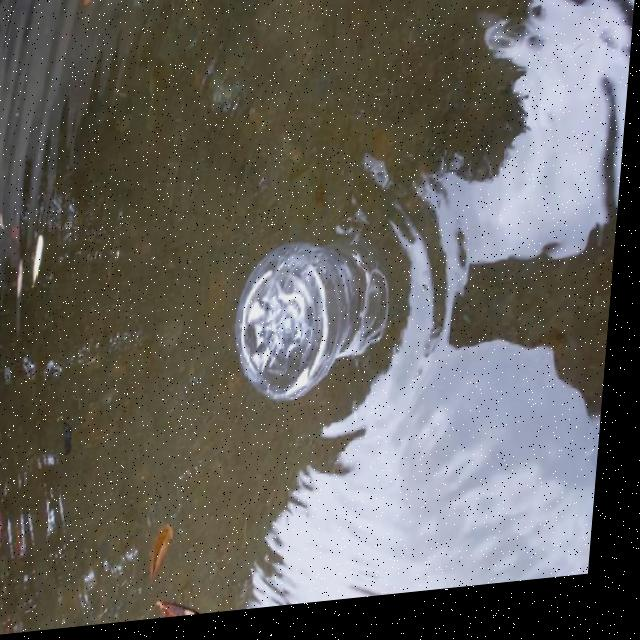leaf: (147, 509, 278, 624), (0, 192, 63, 309), (55, 0, 118, 13)
waterbottle: (212, 190, 454, 431)
